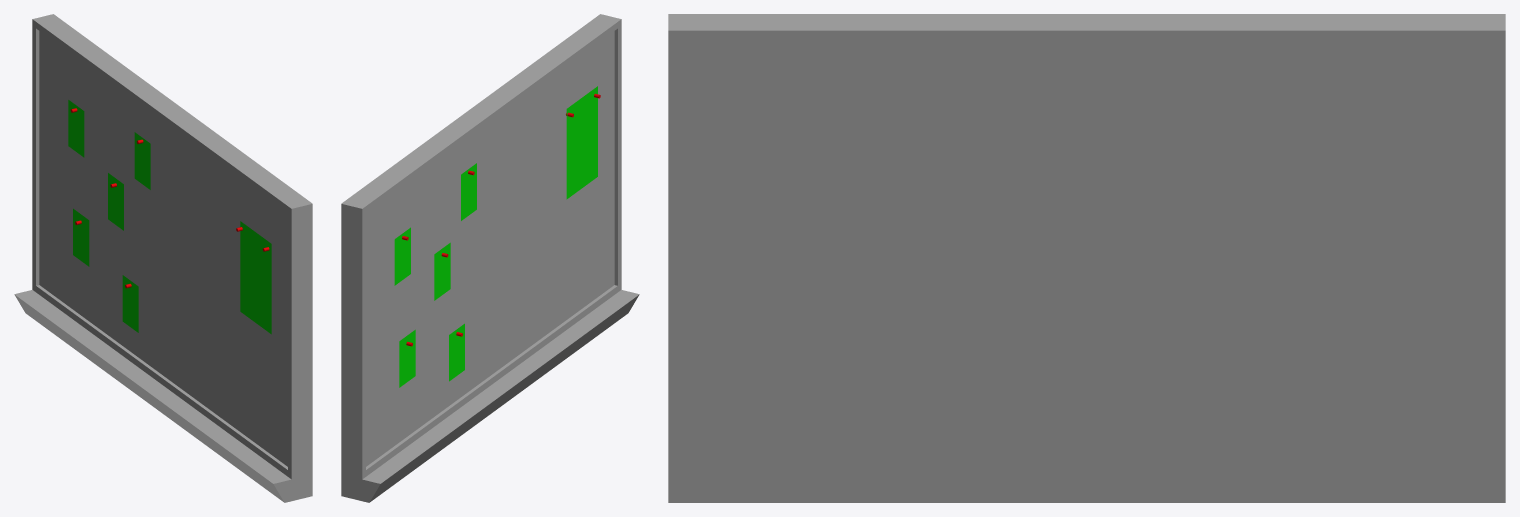
Rendered from Bulliton_board.fbx.
3 views of the same model, side by side, from view 1: azimuth 30°, elevation 25°; view 2: azimuth 150°, elevation 25°; view 3: azimuth 270°, elevation 25° (orthographic). The views are drawn at different scales.
Parts seen in each view (by area): view 1: pCube1, pPlane6, pPlane3, pPlane1, pPlane4, pPlane5, pPlane2; view 2: pCube1, pPlane6, pPlane3, pPlane2, pPlane1, pPlane5, pPlane4; view 3: pCube1.
Boxes of the visible parts, box(x1,y1,x2,y2) form: pCube1: box(14, 14, 312, 502); pPlane6: box(240, 221, 271, 334); pPlane3: box(73, 208, 89, 266); pPlane1: box(68, 100, 84, 157); pPlane4: box(134, 132, 150, 189); pPlane5: box(122, 275, 138, 332); pPlane2: box(108, 173, 123, 230); pCube1: box(341, 14, 639, 502); pPlane6: box(566, 86, 597, 199); pPlane3: box(399, 329, 415, 387); pPlane2: box(434, 242, 450, 300); pPlane1: box(394, 227, 410, 285); pPlane5: box(449, 323, 464, 381); pPlane4: box(461, 163, 476, 220); pCube1: box(668, 14, 1505, 502).
Size of the model in its own units: 1.86 by 13.21 by 21.23.
